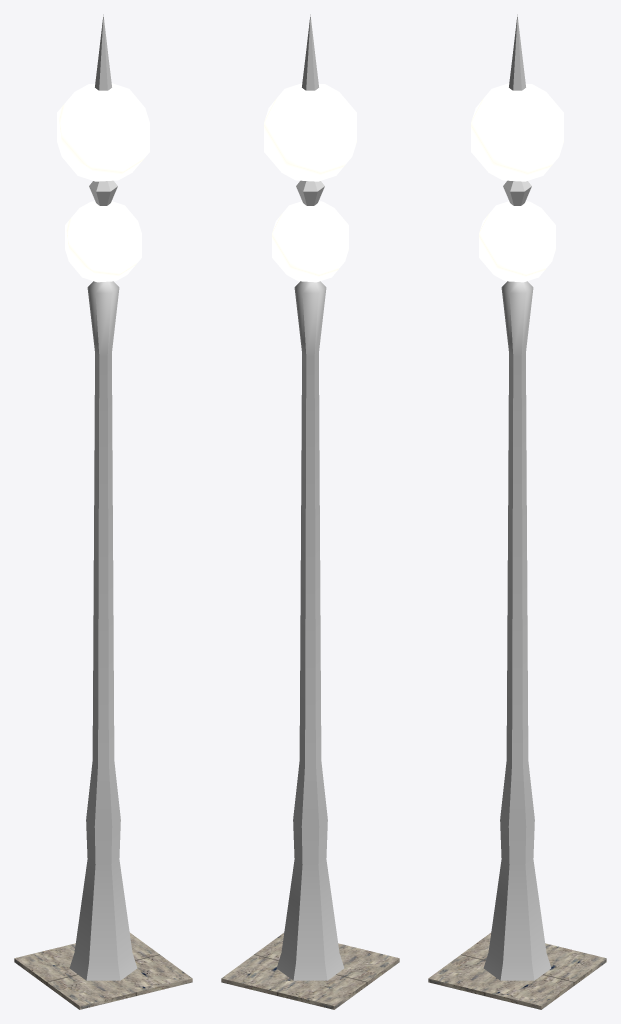
Rendered from SM_Molo_Lampione2Globi_LOD2.fbx.
3 views of the same model, side by side, from view 1: azimuth 30°, elevation 25°; view 2: azimuth 150°, elevation 25°; view 3: azimuth 330°, elevation 25° (orthographic).
Visible parts, largest first — view 1: SM_Molo_Lampione2Globi_LOD2; view 2: SM_Molo_Lampione2Globi_LOD2; view 3: SM_Molo_Lampione2Globi_LOD2.
Boxes of the visible parts, <box> form: SM_Molo_Lampione2Globi_LOD2: <box>14,14,192,1009</box>; SM_Molo_Lampione2Globi_LOD2: <box>221,14,399,1009</box>; SM_Molo_Lampione2Globi_LOD2: <box>428,14,606,1009</box>.
Bounding box in the file's own units: 90 × 90 × 729.
3 materials, 1 textured.
